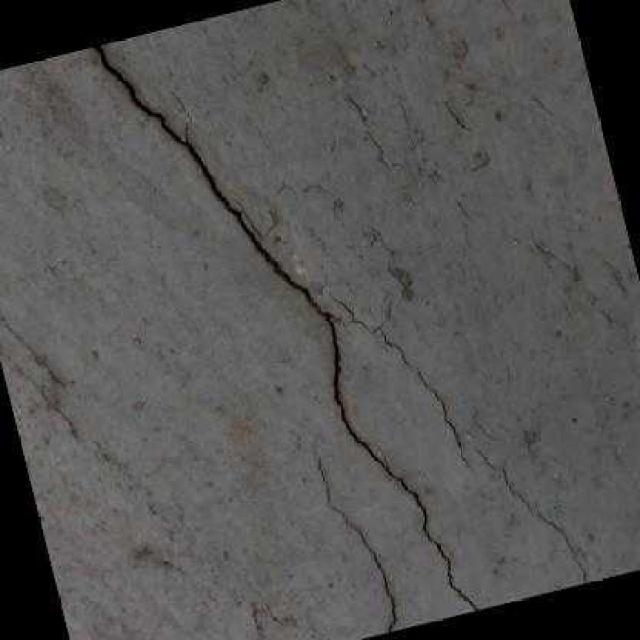D00: (93, 45, 481, 611)
